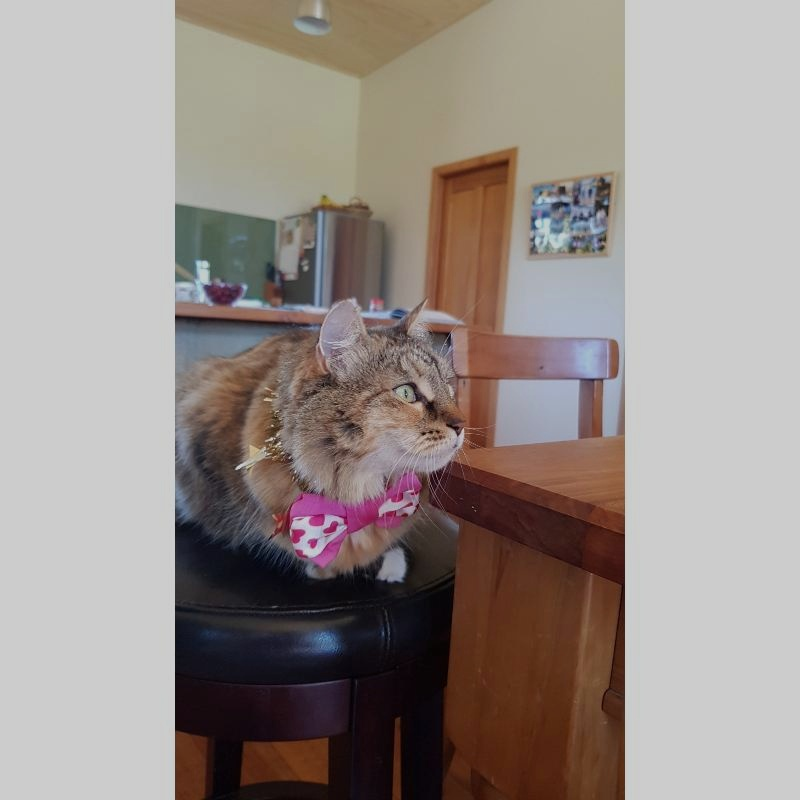yellow: (176, 295, 473, 582)
